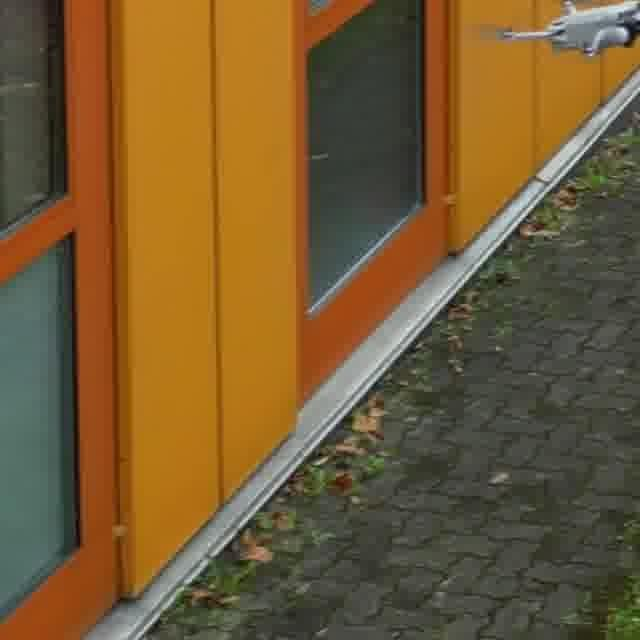Drohne: (497, 0, 639, 56)
